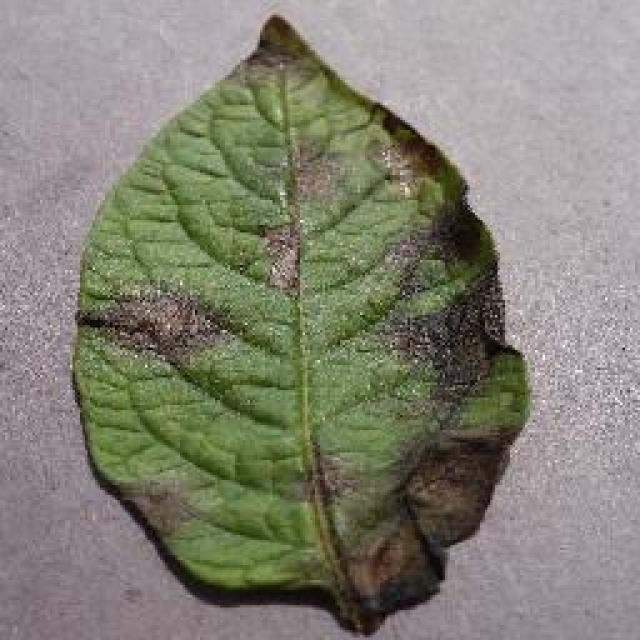late_blight: (65, 10, 535, 635)
